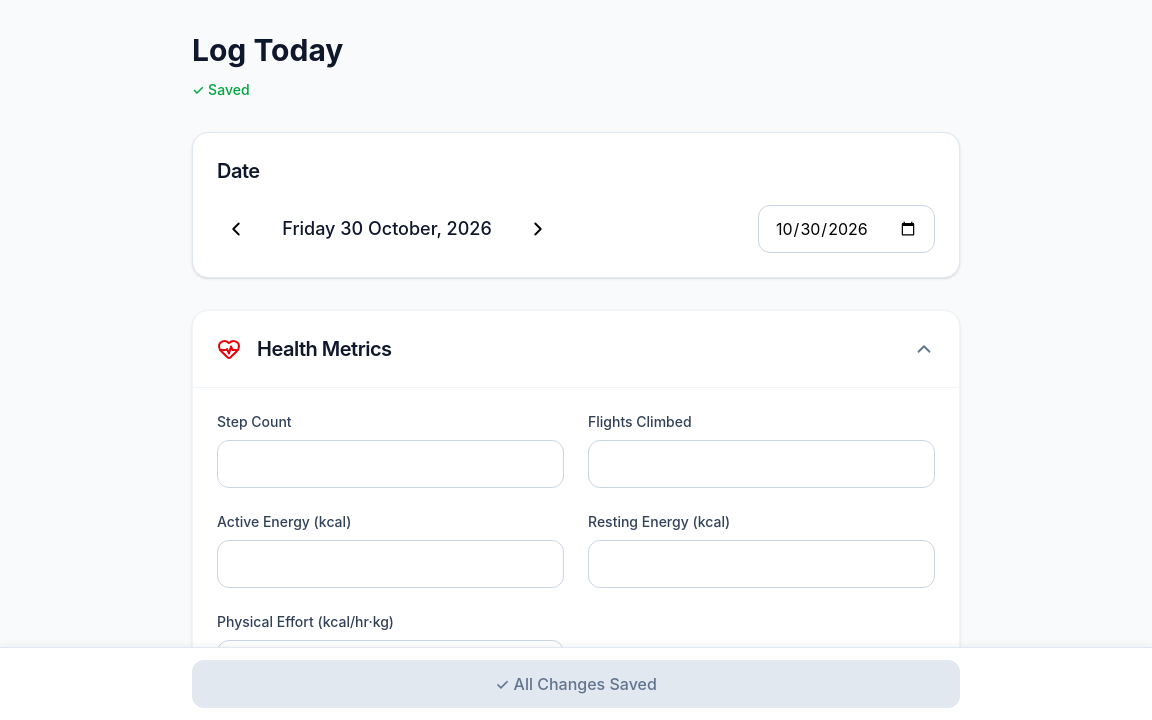
Test: LogHealthMetrics › marks page dirty when Health Metrics change
Step 1. Type "10000" into the number field labelled "Step Count" → (390, 464), box x1=217 y1=440 x2=564 y2=488
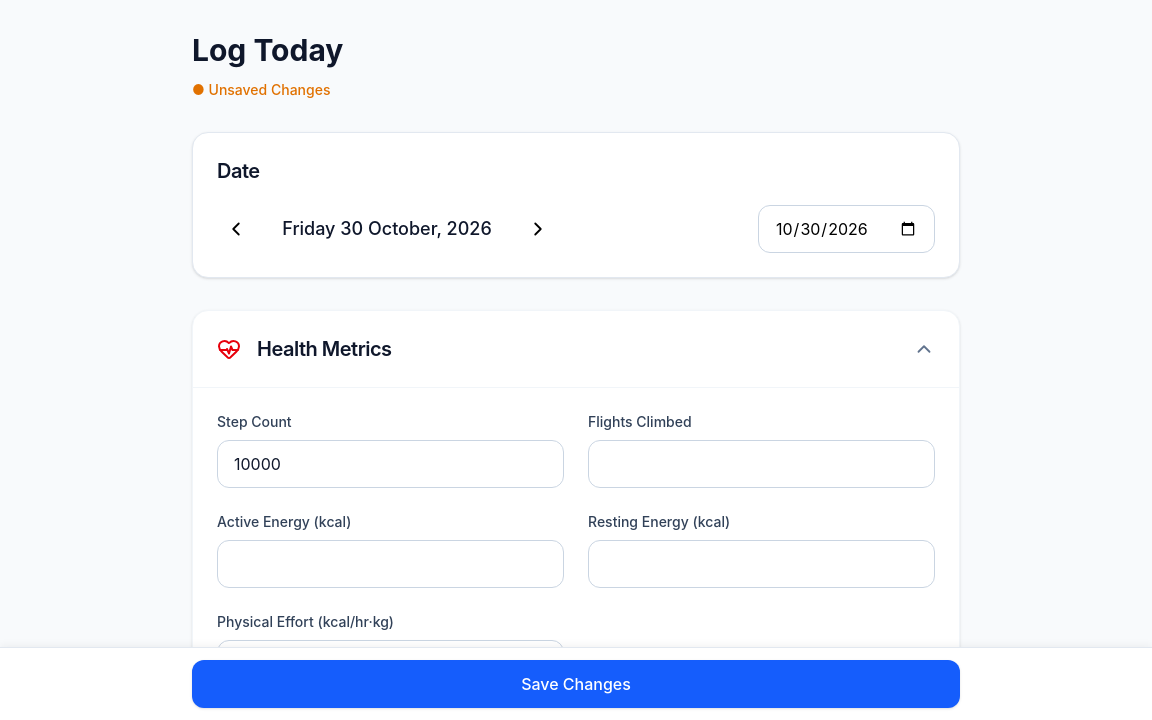
Now the text "● Unsaved Changes" is shown, box x1=192 y1=80 x2=330 y2=100
